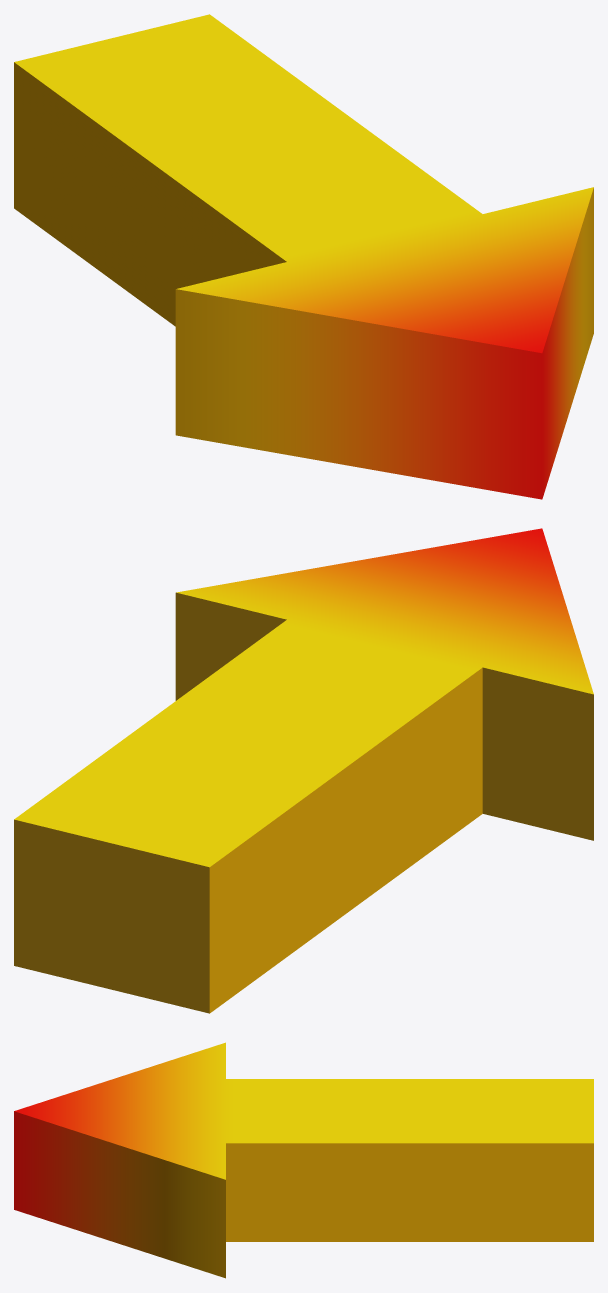
Rendered from arrow.FBX.
The picture shows the model from 3 angles, top to bottom: view 1: azimuth 30°, elevation 25°; view 2: azimuth 150°, elevation 25°; view 3: azimuth 270°, elevation 25°; orthographic projection. The views are drawn at different scales.
Parts seen in each view (by area): view 1: Box002; view 2: Box002; view 3: Box002.
Boxes of the visible parts, box(x1,y1,x2,y2) form: Box002: box(14, 14, 593, 499); Box002: box(14, 528, 593, 1013); Box002: box(14, 1042, 593, 1278).
Bounding box in the file's own units: 79.75 × 26.67 × 142.
